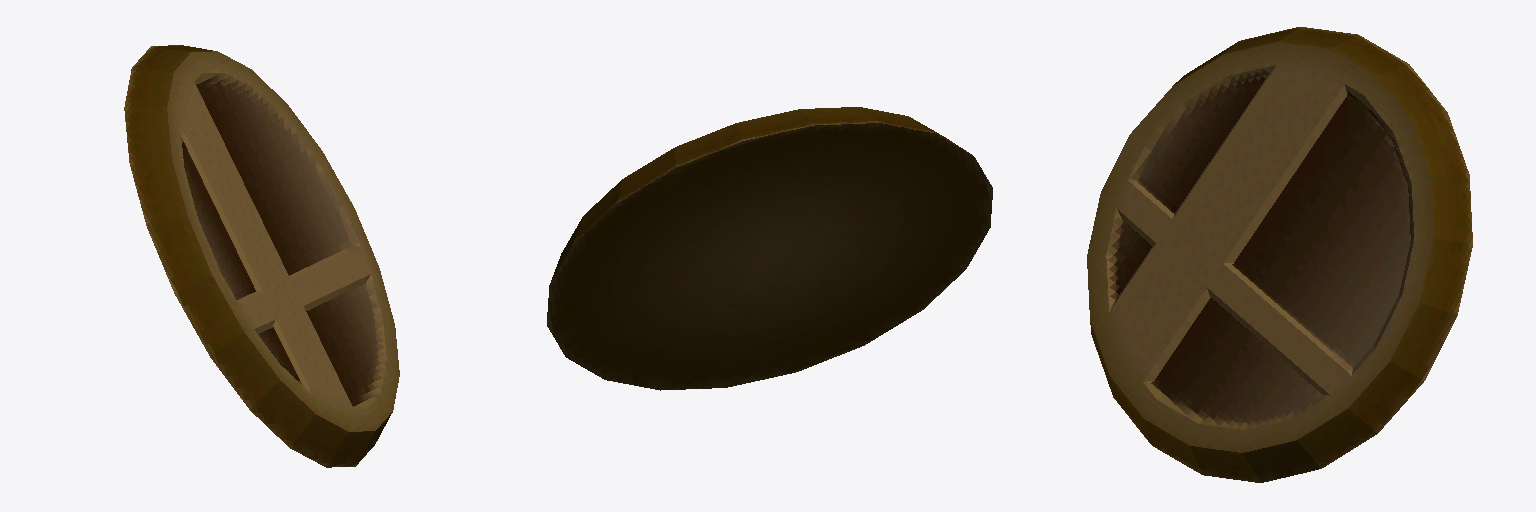
The picture shows the model from 3 angles: view 1: azimuth 30°, elevation 25°; view 2: azimuth 150°, elevation 25°; view 3: azimuth 270°, elevation 25°; orthographic projection.
Parts seen in each view (by area): view 1: polygon0; view 2: polygon0; view 3: polygon0.
Boxes of the visible parts, x1,y1,x2,y2 form: polygon0: [124, 45, 399, 467]; polygon0: [547, 107, 992, 390]; polygon0: [1087, 27, 1472, 482].
Bounding box in the file's own units: 7.15 × 7.8 × 7.58.
1 materials, 1 textured.